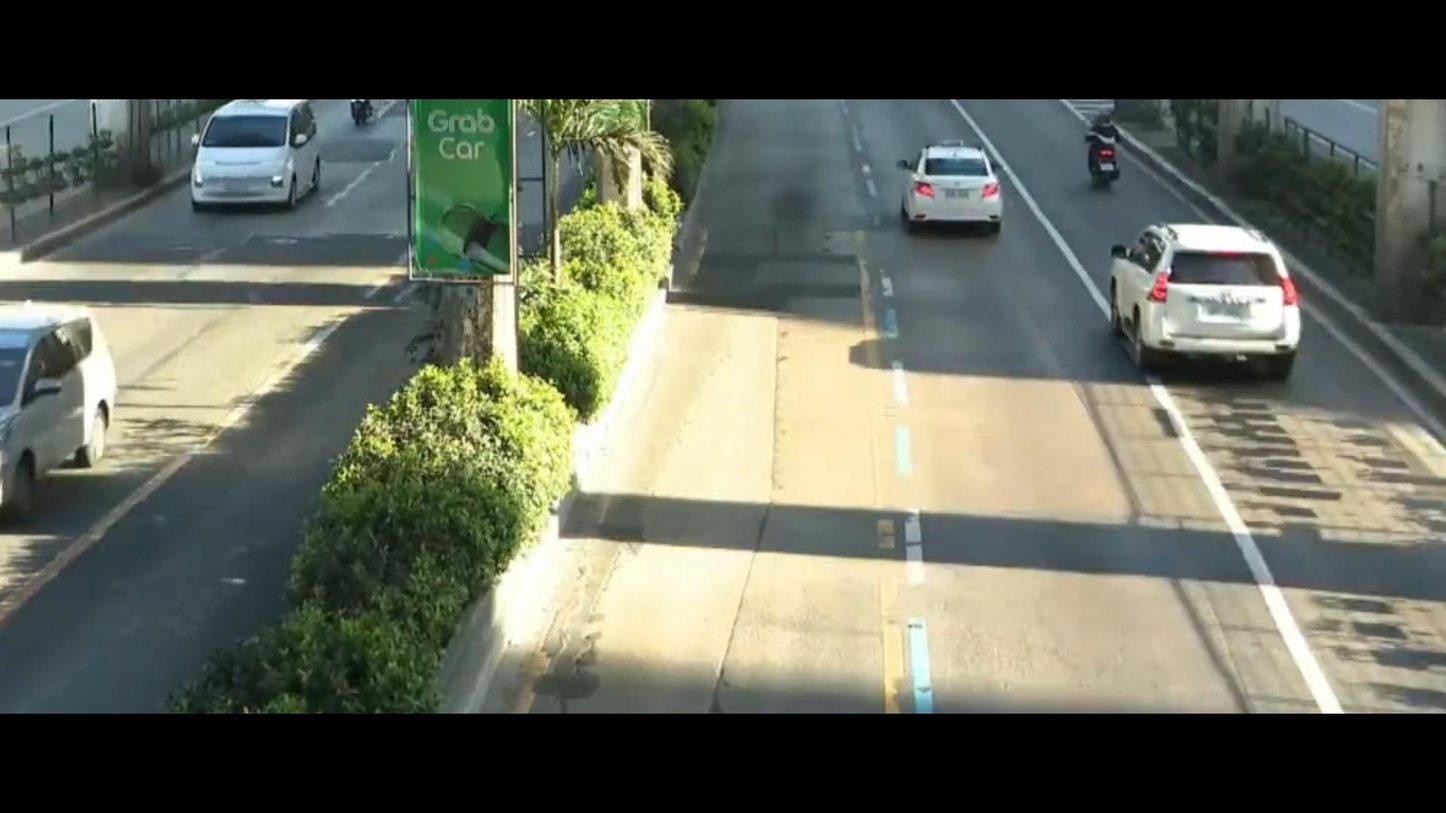Motorcycle: (1076, 104, 1145, 196)
SUV: (1074, 211, 1361, 386), (0, 298, 128, 536)
Sedan: (872, 121, 1027, 244)
Van: (165, 104, 346, 214)
